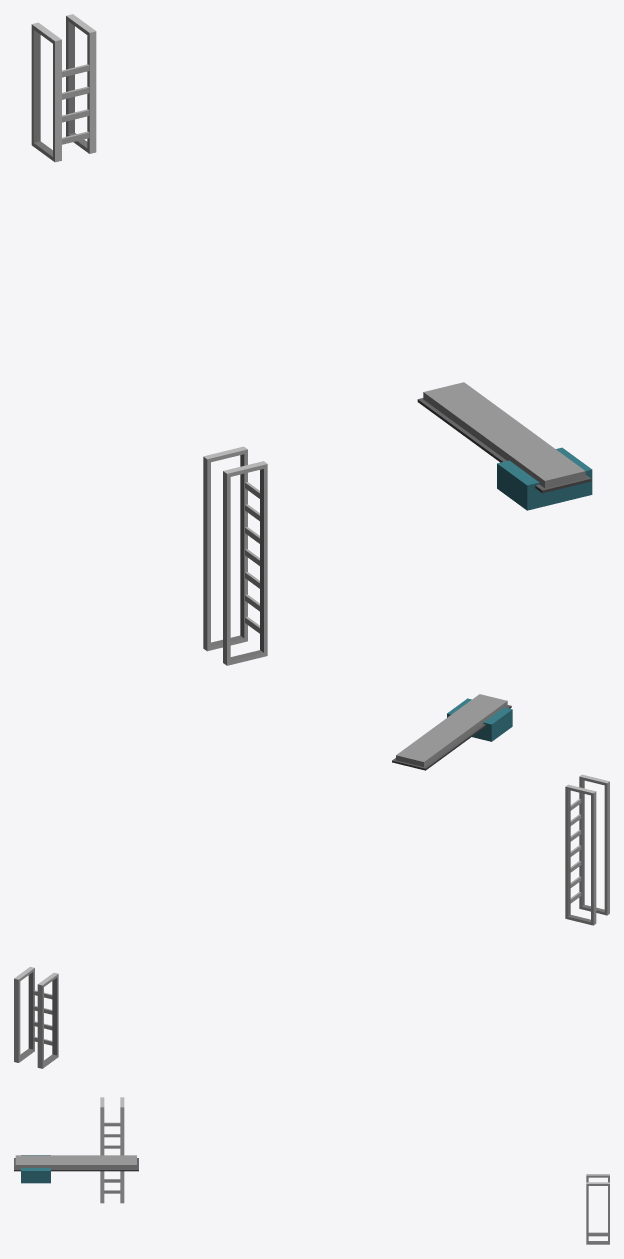
The model's file is SA_Env_Pool_Extras_02.gltf.
3 views of the same model, one above another, from view 1: azimuth 30°, elevation 25°; view 2: azimuth 150°, elevation 25°; view 3: azimuth 270°, elevation 25° (orthographic). The views are drawn at different scales.
Visible parts, largest first — view 1: SA_Env_Pool_Extras_02; view 2: SA_Env_Pool_Extras_02; view 3: SA_Env_Pool_Extras_02.
Part boxes in pixels (x1=…): SA_Env_Pool_Extras_02: x1=31, y1=14, x2=592, y2=665; SA_Env_Pool_Extras_02: x1=14, y1=694, x2=609, y2=1068; SA_Env_Pool_Extras_02: x1=14, y1=1097, x2=609, y2=1244.
Bounding box in the file's own units: 8.73 × 4.51 × 25.36.
1 material, 1 textured.
